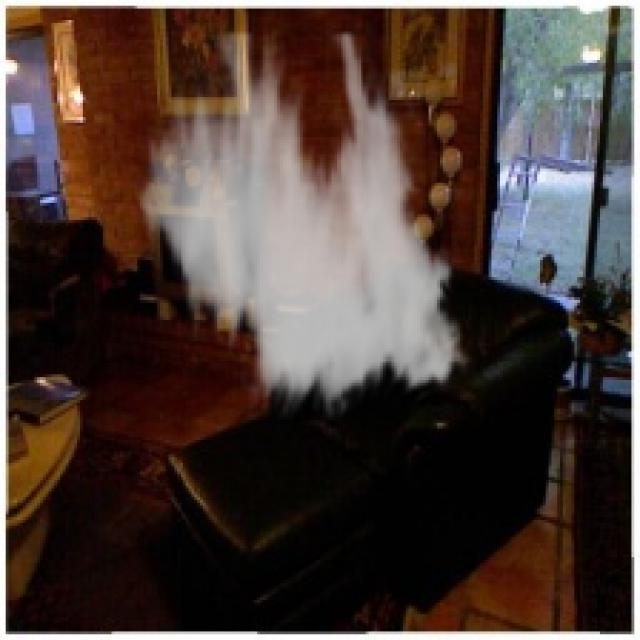Smoke: (128, 31, 478, 420)
